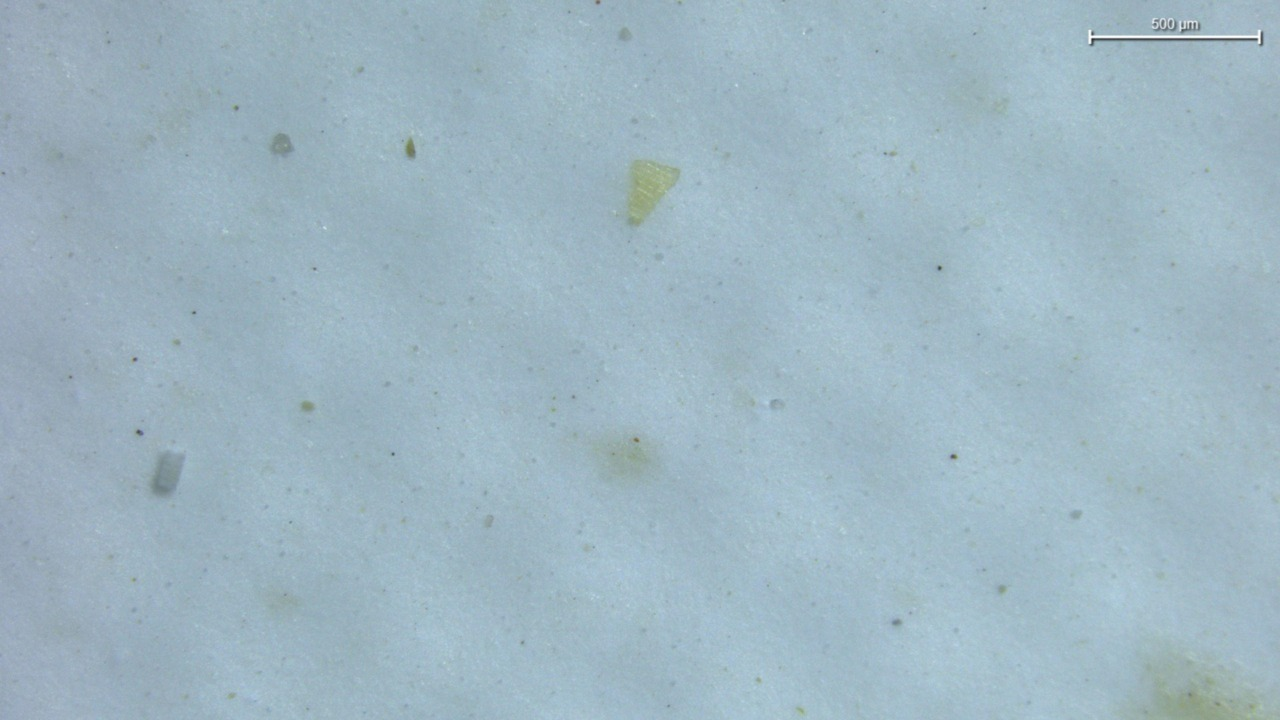microplastic_fragment: (627, 159, 680, 225)
